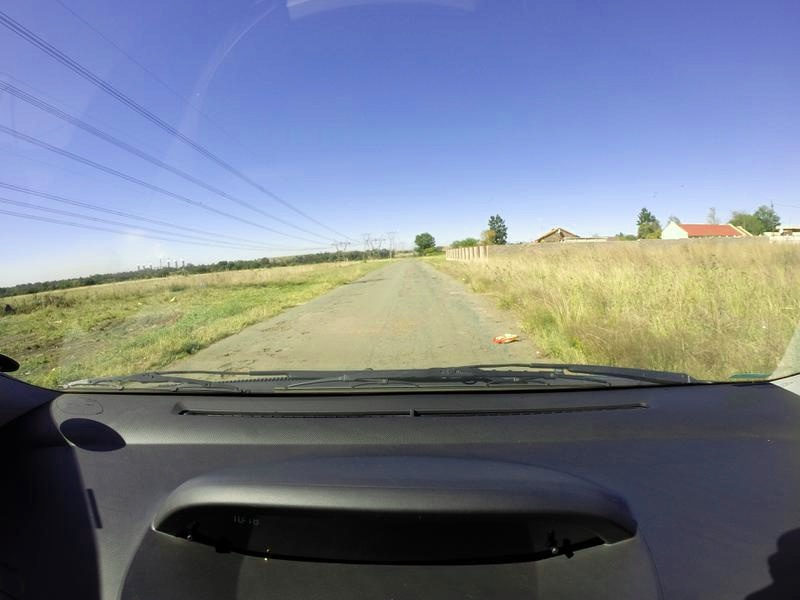pothole: (226, 366, 247, 376), (258, 329, 289, 333), (302, 329, 313, 338), (273, 318, 288, 324), (222, 350, 233, 357), (264, 345, 271, 349)
